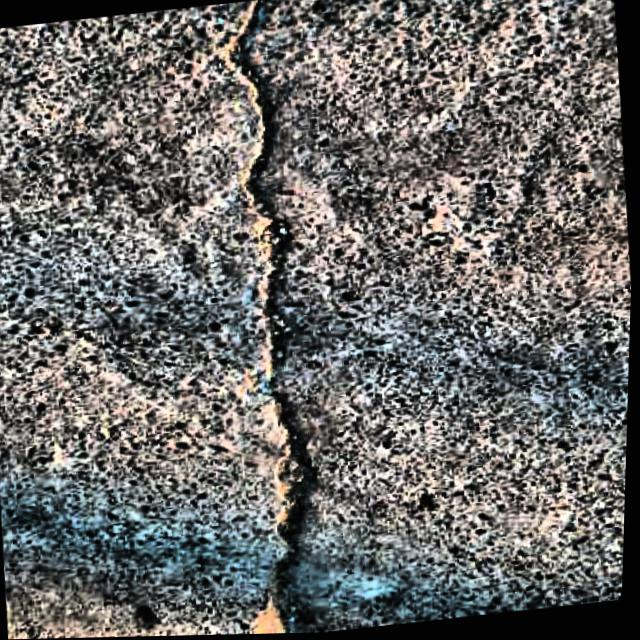cracks: (214, 0, 335, 634)
